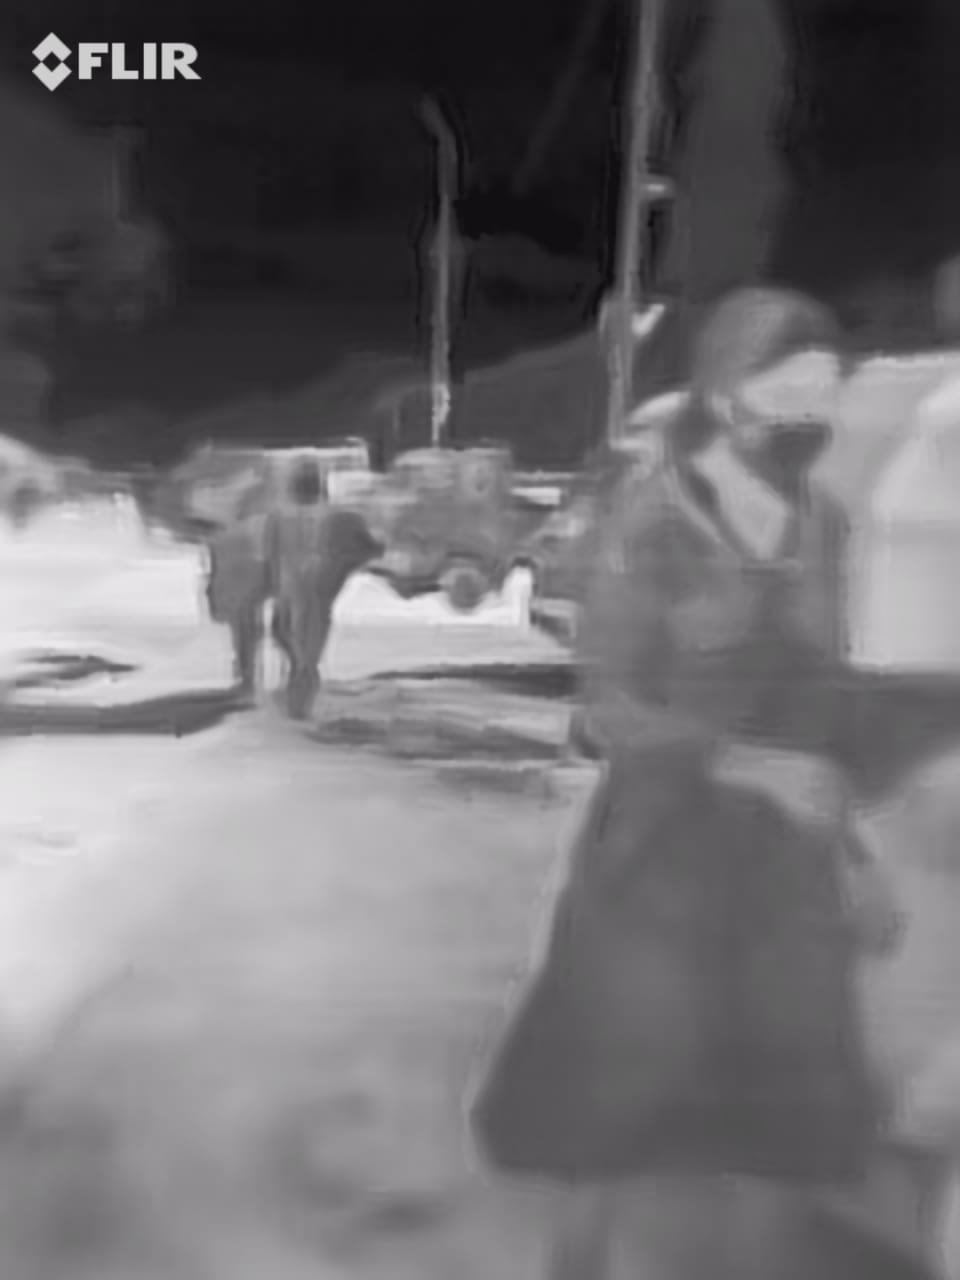head: (669, 287, 882, 513)
